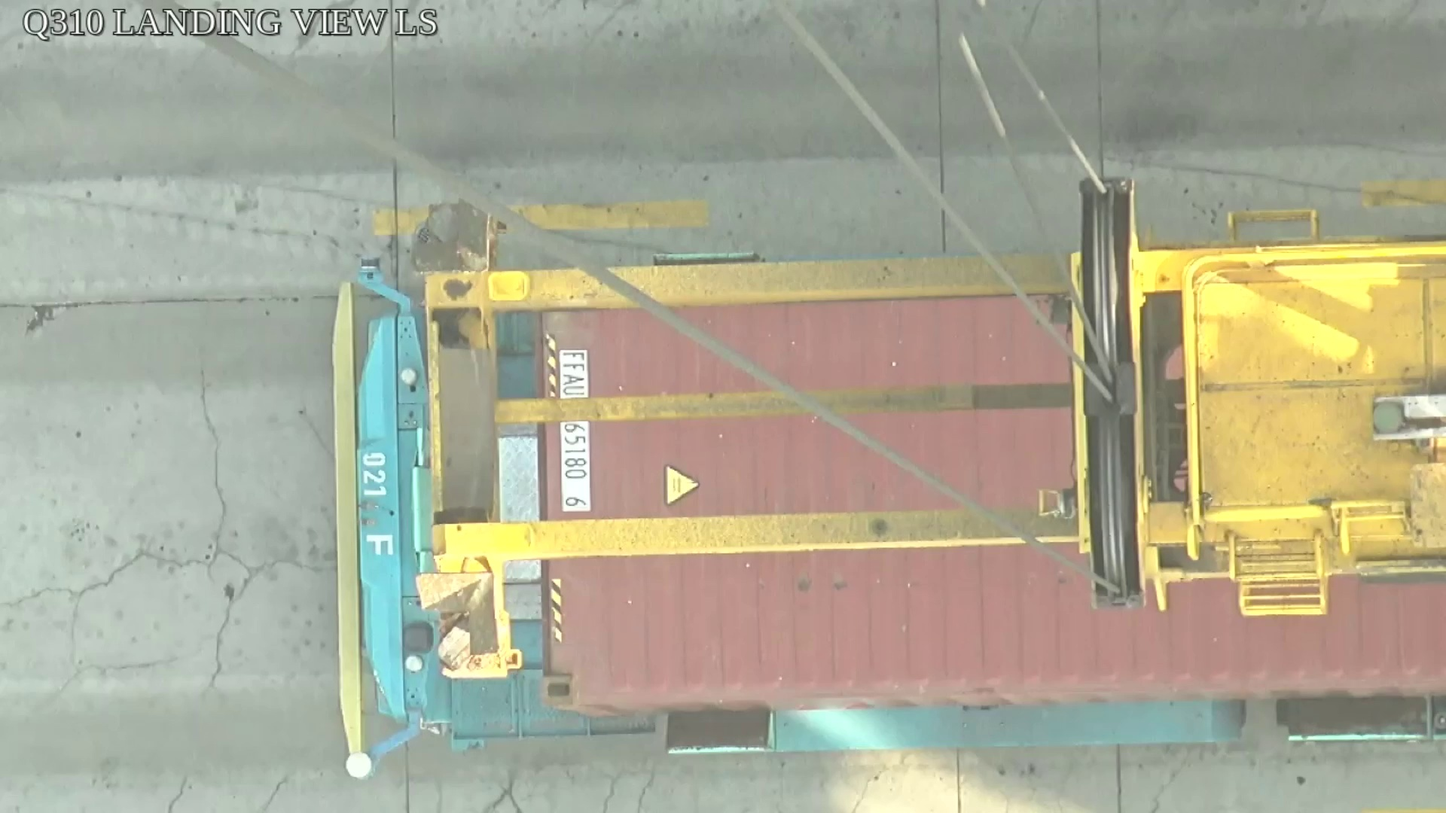aa: (1075, 176, 1152, 614)
